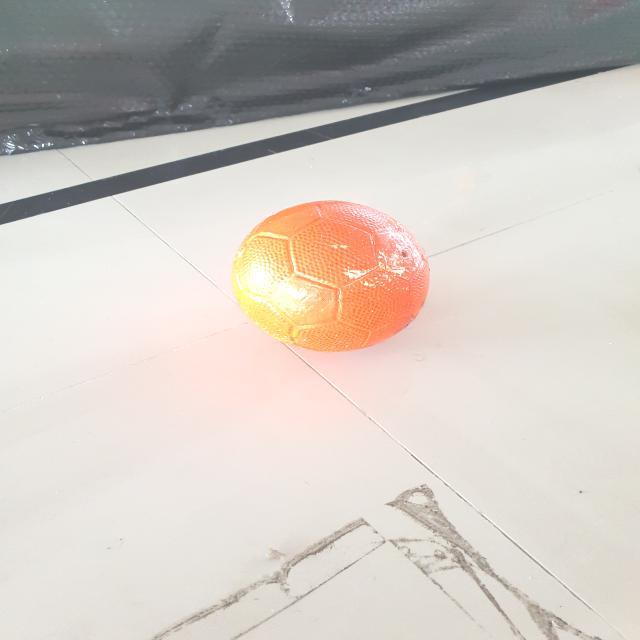bola: (214, 190, 441, 364)
